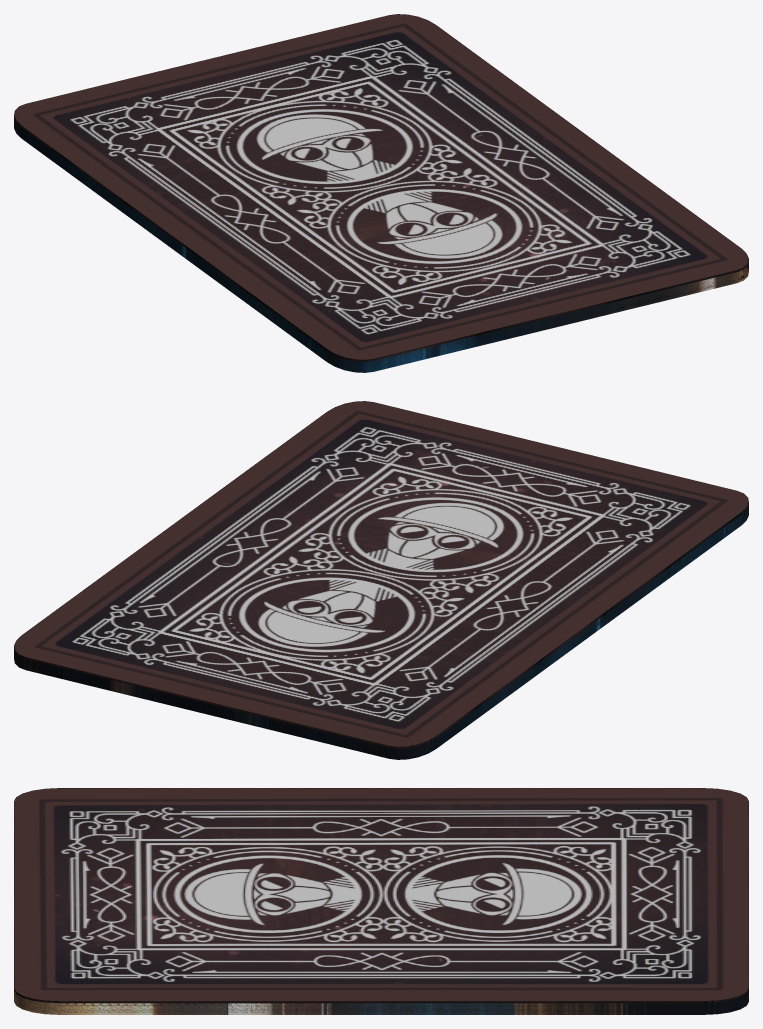
Rendered from kingof_cups_tarot.glb.
3 renders of one model, top to bottom at view 1: azimuth 30°, elevation 25°; view 2: azimuth 150°, elevation 25°; view 3: azimuth 270°, elevation 25°, orthographic. The views are drawn at different scales.
Parts seen in each view (by area): view 1: Plane.002, Plane.001; view 2: Plane.002, Plane.001; view 3: Plane.002, Plane.001.
Boxes of the visible parts, x1,y1,x2,y2 form: Plane.002: (14, 14, 748, 370); Plane.001: (14, 118, 748, 372); Plane.002: (14, 401, 748, 756); Plane.001: (14, 505, 748, 759); Plane.002: (14, 788, 748, 1012); Plane.001: (14, 990, 748, 1014).
Size of the model in its own units: 2.28 by 0.0684 by 3.32.
2 materials, 2 textured.
